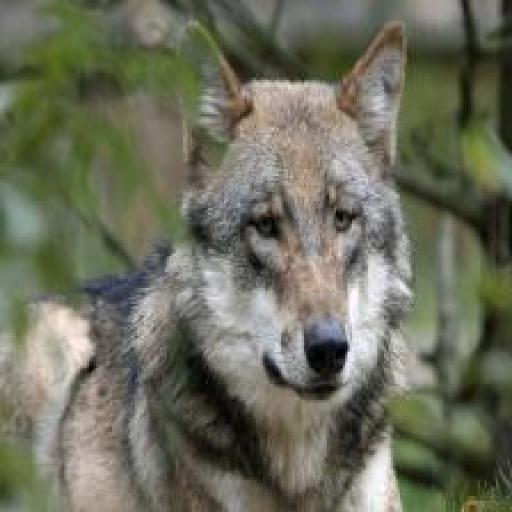wolf: (0, 11, 429, 512)
